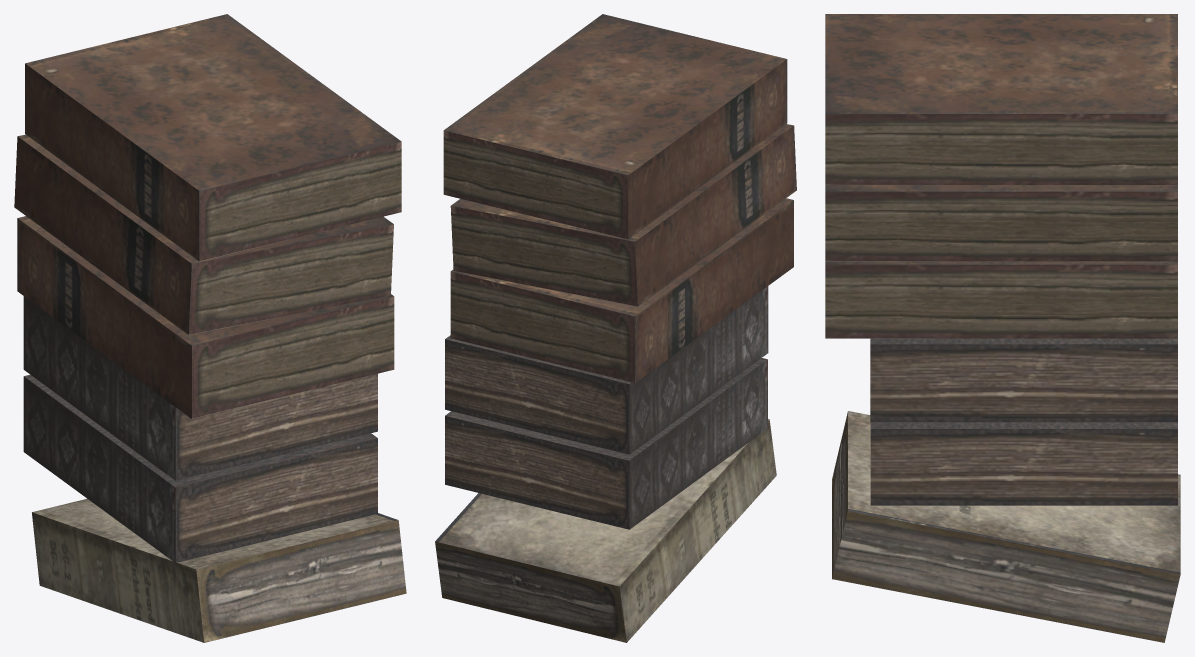
The model's file is p_glo_books_row01_LOD0.obj.
3 views of the same model, side by side, from view 1: azimuth 30°, elevation 25°; view 2: azimuth 150°, elevation 25°; view 3: azimuth 270°, elevation 25° (orthographic). The views are drawn at different scales.
Visible parts, largest first — view 1: mtl_p_glo_books; view 2: mtl_p_glo_books; view 3: mtl_p_glo_books.
Part boxes in pixels (x1,y1,x2,y2): mtl_p_glo_books: (14,14,406,642); mtl_p_glo_books: (435,14,796,642); mtl_p_glo_books: (825,14,1180,642).
Bounding box in the file's own units: 15.15 × 34.01 × 20.85.
